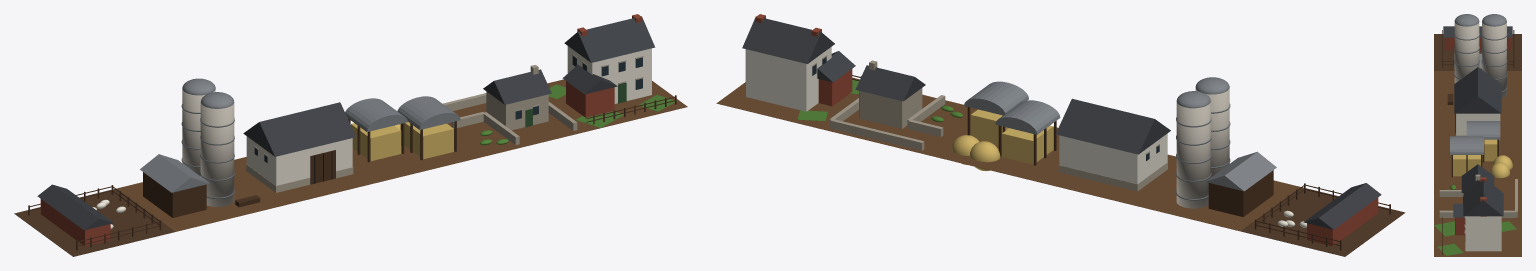
The model's file is fazenda.glb.
The picture shows the model from 3 angles, left to right: view 1: azimuth 30°, elevation 25°; view 2: azimuth 150°, elevation 25°; view 3: azimuth 270°, elevation 25°; orthographic projection. The views are drawn at different scales.
Visible parts, largest first — view 1: chao_piso.005, telhado.003, silo.001, celeiro, chao_piso.001, telhado, chao_piso.004, chao_piso.003, chao_piso.002, casa, chao_piso, galpao (+19 smaller); view 2: chao_piso.005, telhado.003, casa, silo, celeiro, telhado, chao_piso.004, chao_piso.001, chao_piso.003, chao_piso.002, chao_piso, galpao (+19 smaller); view 3: telhado.003, chao_piso.003, chao_piso, chao_piso.002, silo, chao_piso.004, casa, silo.001, telhado, chao_piso.001, chao_piso.005, telhado_curvo (+20 smaller).
Boxes of the visible parts, x1=… form: chao_piso.005: x1=14, y1=188, x2=175, y2=256; telhado.003: x1=243, y1=102, x2=355, y2=156; silo.001: x1=200, y1=101, x2=234, y2=206; celeiro: x1=246, y1=136, x2=352, y2=185; chao_piso.001: x1=447, y1=103, x2=584, y2=156; telhado: x1=564, y1=16, x2=655, y2=62; chao_piso.004: x1=117, y1=175, x2=277, y2=231; chao_piso.003: x1=234, y1=157, x2=380, y2=206; chao_piso.002: x1=352, y1=136, x2=482, y2=181; casa: x1=567, y1=46, x2=651, y2=103; chao_piso: x1=547, y1=79, x2=687, y2=131; galpao: x1=143, y1=172, x2=206, y2=217; chao_piso.005: x1=1240, y1=187, x2=1405, y2=256; telhado.003: x1=1055, y1=98, x2=1170, y2=154; casa: x1=745, y1=47, x2=831, y2=111; silo: x1=1176, y1=100, x2=1210, y2=208; celeiro: x1=1059, y1=133, x2=1167, y2=184; telhado: x1=742, y1=16, x2=834, y2=63; chao_piso.004: x1=1135, y1=176, x2=1300, y2=231; chao_piso.001: x1=821, y1=94, x2=977, y2=154; chao_piso.003: x1=1031, y1=154, x2=1176, y2=205; chao_piso.002: x1=926, y1=122, x2=1058, y2=179; chao_piso: x1=716, y1=77, x2=859, y2=128; galpao: x1=1208, y1=170, x2=1273, y2=217; telhado.003: x1=1454, y1=67, x2=1501, y2=113; chao_piso.003: x1=1434, y1=108, x2=1521, y2=145; chao_piso: x1=1434, y1=219, x2=1521, y2=256; chao_piso.002: x1=1434, y1=145, x2=1521, y2=182; silo: x1=1482, y1=22, x2=1506, y2=98; chao_piso.004: x1=1434, y1=71, x2=1521, y2=108; casa: x1=1465, y1=216, x2=1501, y2=251; silo.001: x1=1454, y1=22, x2=1479, y2=83; telhado: x1=1463, y1=180, x2=1503, y2=216; chao_piso.001: x1=1434, y1=182, x2=1521, y2=219; chao_piso.005: x1=1434, y1=34, x2=1521, y2=70; telhado_curvo: x1=1450, y1=136, x2=1483, y2=154.
Bounding box in the file's own units: 72 × 13.27 × 12.
